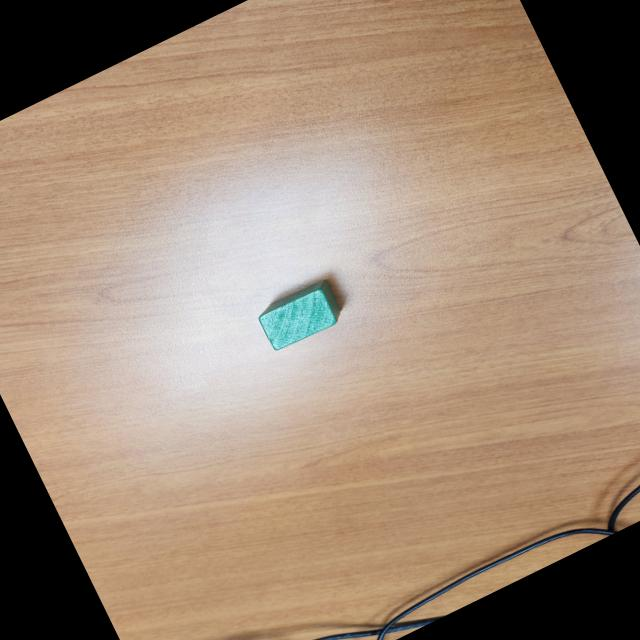green: (247, 275, 348, 356)
